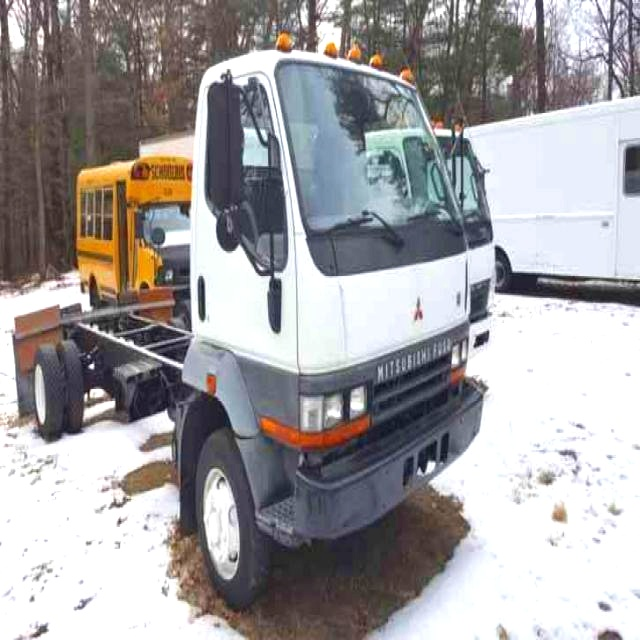truck: (0, 23, 511, 610)
